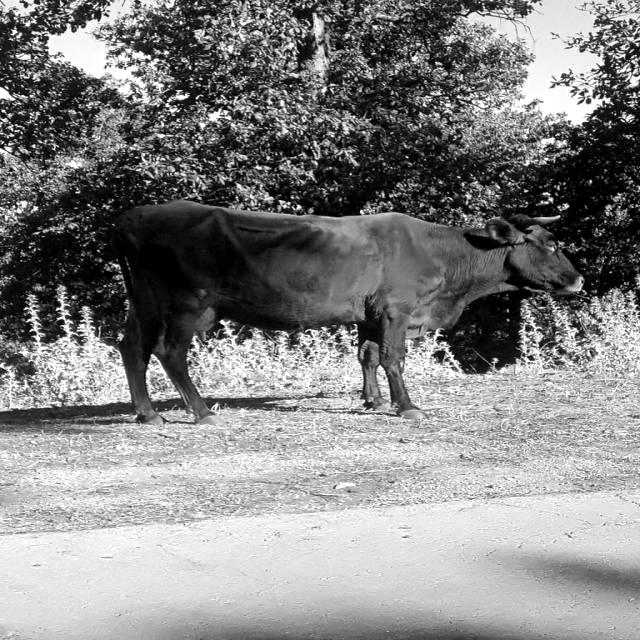COW: (115, 200, 584, 423)
